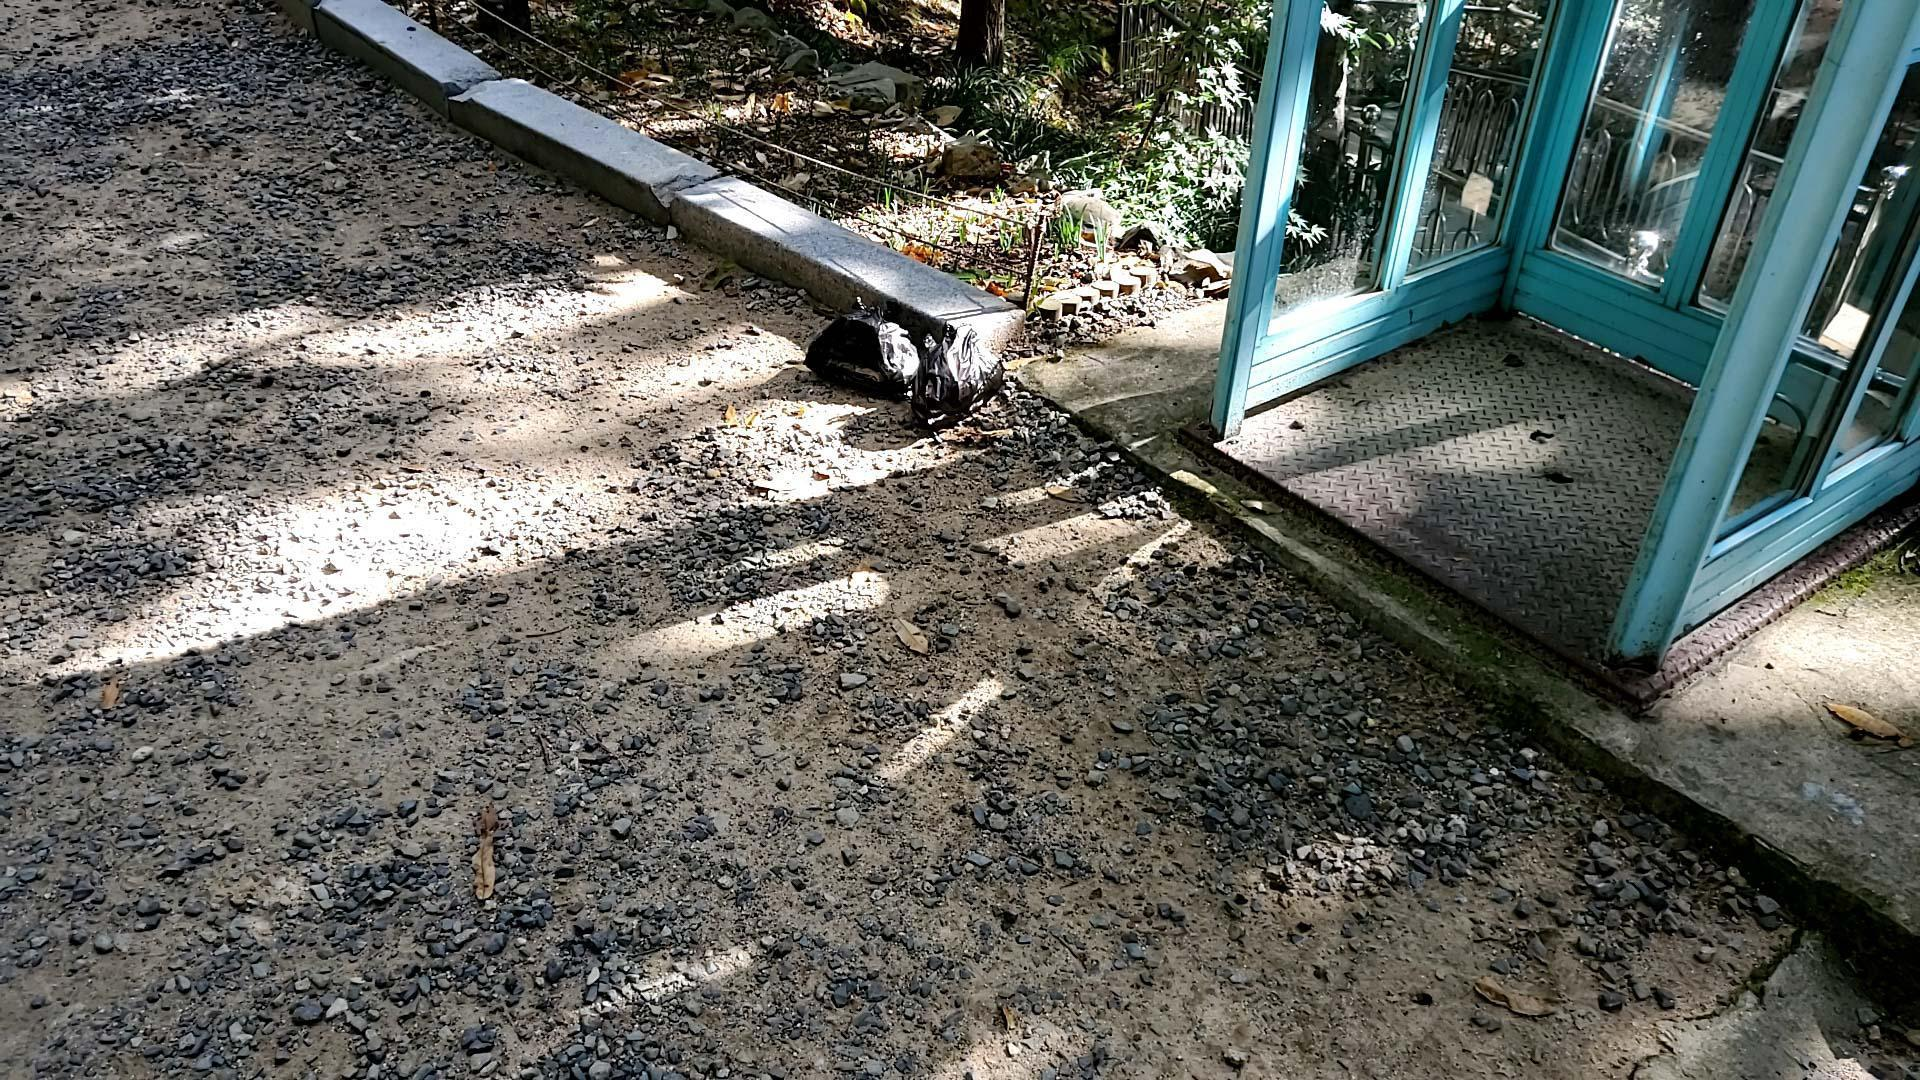black_bag: (794, 289, 922, 406), (909, 315, 1006, 435)
